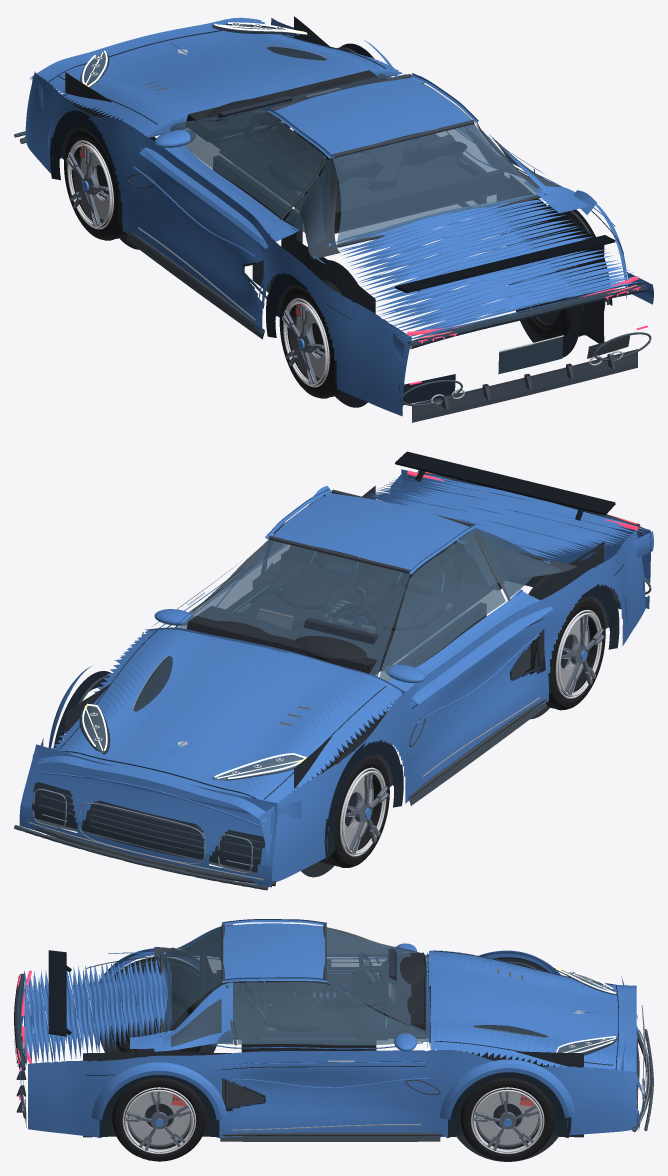
File: neon_gt_52.glb
3 renders of one model, top to bottom at view 1: azimuth 30°, elevation 25°; view 2: azimuth 150°, elevation 25°; view 3: azimuth 270°, elevation 25°, orthographic. The views are drawn at different scales.
Parts seen in each view (by area): view 1: NEON_Sovereign_L_Seamless_OnePiece_Aero_Side, NEON_Precision_Crowned_Continuous_RearDeck, NEON_Coherent_OnePiece_Crowned_Bonnet, GT15_03_Complete_Curved_Rear_Window, GT17_L_Front_Door_Independently_Modelled_Glass, GT15_01_Complete_Left_to_Right_Crowned_Roof, GT9_Cabin_00_Cabin_Carpet, GT17_L_Curved_Flush_Door_Shoulder, GT9_Cabin_04_Upper_Dashboard_Sculpted, NEON36_Right_Rear_Opaque_Internal_Fender_Liner, NEON42_RearDiffuser_DeepShadowGasket, 16_Low_Rear_Spoiler__carbon (+32 smaller); view 2: NEON_Coherent_OnePiece_Crowned_Bonnet, NEON_Sovereign_L_Seamless_OnePiece_Aero_Side, GT15_02_Complete_Curved_Front_Windshield, NEON44_SweptNose_RealRoundedTrapezoidalAirIntakes, NEON_Precision_Crowned_Continuous_RearDeck, GT17_L_Front_Door_Independently_Modelled_Glass, GT15_01_Complete_Left_to_Right_Crowned_Roof, GT9_Cabin_04_Upper_Dashboard_Sculpted, GT9_Cabin_00_Cabin_Carpet, GT17_L_Curved_Flush_Door_Shoulder, NEON44_Main_DeepDarkIntakeCavity, 16_Low_Rear_Spoiler__carbon (+35 smaller); view 3: NEON_Sovereign_R_Seamless_OnePiece_Aero_Side, NEON_Coherent_OnePiece_Crowned_Bonnet, NEON_Precision_Crowned_Continuous_RearDeck, GT17_R_Front_Door_Independently_Modelled_Glass, GT15_01_Complete_Left_to_Right_Crowned_Roof, GT15_02_Complete_Curved_Front_Windshield, GT15_03_Complete_Curved_Rear_Window, GT9_Cabin_00_Cabin_Carpet, GT9_Cabin_04_Upper_Dashboard_Sculpted, Wheel_RR__01_Molded_Tire_And_Profile, Wheel_FR__01_Molded_Tire_And_Profile, NEON35_Right_Front_Rolled_Metal_Fender_Flare (+42 smaller).
Part boxes in pixels (bbox=[...]): NEON_Sovereign_L_Seamless_OnePiece_Aero_Side: bbox=[25, 72, 411, 416]; NEON_Precision_Crowned_Continuous_RearDeck: bbox=[335, 195, 643, 341]; NEON_Coherent_OnePiece_Crowned_Bonnet: bbox=[29, 17, 402, 137]; GT15_03_Complete_Curved_Rear_Window: bbox=[332, 124, 541, 246]; GT17_L_Front_Door_Independently_Modelled_Glass: bbox=[170, 112, 325, 217]; GT15_01_Complete_Left_to_Right_Crowned_Roof: bbox=[274, 77, 470, 157]; GT9_Cabin_00_Cabin_Carpet: bbox=[219, 132, 503, 233]; GT17_L_Curved_Flush_Door_Shoulder: bbox=[139, 145, 299, 248]; GT9_Cabin_04_Upper_Dashboard_Sculpted: bbox=[186, 70, 381, 141]; NEON36_Right_Rear_Opaque_Internal_Fender_Liner: bbox=[510, 175, 604, 343]; NEON42_RearDiffuser_DeepShadowGasket: bbox=[413, 352, 636, 416]; 16_Low_Rear_Spoiler__carbon: bbox=[395, 235, 615, 292]; NEON_Coherent_OnePiece_Crowned_Bonnet: bbox=[36, 627, 404, 822]; NEON_Sovereign_L_Seamless_OnePiece_Aero_Side: bbox=[259, 530, 645, 881]; GT15_02_Complete_Curved_Front_Windshield: bbox=[178, 540, 409, 676]; NEON44_SweptNose_RealRoundedTrapezoidalAirIntakes: bbox=[19, 744, 277, 887]; NEON_Precision_Crowned_Continuous_RearDeck: bbox=[363, 471, 648, 560]; GT17_L_Front_Door_Independently_Modelled_Glass: bbox=[379, 531, 505, 681]; GT15_01_Complete_Left_to_Right_Crowned_Roof: bbox=[273, 493, 469, 569]; GT9_Cabin_04_Upper_Dashboard_Sculpted: bbox=[186, 606, 391, 675]; GT9_Cabin_00_Cabin_Carpet: bbox=[243, 553, 502, 670]; GT17_L_Curved_Flush_Door_Shoulder: bbox=[387, 589, 552, 704]; NEON44_Main_DeepDarkIntakeCavity: bbox=[84, 800, 213, 862]; 16_Low_Rear_Spoiler__carbon: bbox=[395, 451, 615, 520]; NEON_Sovereign_R_Seamless_OnePiece_Aero_Side: bbox=[28, 1050, 636, 1137]; NEON_Coherent_OnePiece_Crowned_Bonnet: bbox=[427, 950, 636, 1071]; NEON_Precision_Crowned_Continuous_RearDeck: bbox=[24, 957, 171, 1065]; GT17_R_Front_Door_Independently_Modelled_Glass: bbox=[233, 982, 430, 1045]; GT15_01_Complete_Left_to_Right_Crowned_Roof: bbox=[223, 923, 324, 981]; GT15_02_Complete_Curved_Front_Windshield: bbox=[326, 927, 430, 1037]; GT15_03_Complete_Curved_Rear_Window: bbox=[163, 927, 222, 1034]; GT9_Cabin_00_Cabin_Carpet: bbox=[200, 954, 387, 1039]; GT9_Cabin_04_Upper_Dashboard_Sculpted: bbox=[379, 952, 426, 1034]; Wheel_RR__01_Molded_Tire_And_Profile: bbox=[112, 1078, 206, 1161]; Wheel_FR__01_Molded_Tire_And_Profile: bbox=[460, 1078, 555, 1161]; NEON35_Right_Front_Rolled_Metal_Fender_Flare: bbox=[439, 1059, 575, 1119].
Bounding box in the file's own units: 2.23 × 1.51 × 5.03.
Materials: 72 (9 with a texture image).
